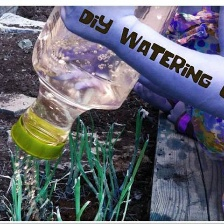bottle: (8, 2, 183, 164)
